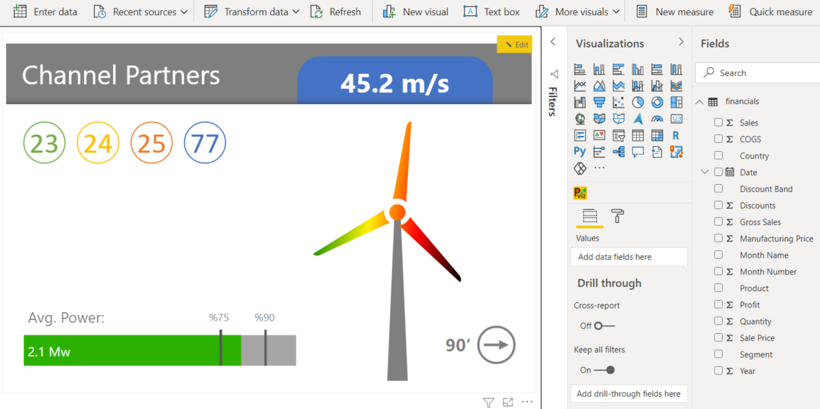

What the dashboard file says about the page in this screenshot:
{"tool":"powerbi","page":{"name":"1","canvas":[1280,720],"ordinal":0},"visuals":[{"type":"pureVizInfographicC9801BF222134D2D83FA9C41861F3482","fields":{"dataset":["Sum(financials.Budget)","Min(financials.Country)","Sum(financials.Quantity)","Min(financials.Product)","financials.Eficiency %","Min(financials.Discount Band)"]},"box":[256,112.9,745.4,480.6],"z":0},{"type":"slicer","fields":{"Values":["financials.Product"]},"box":[36.4,112.8,167.4,167.4],"z":1000},{"type":"actionButton","box":[1072,654,208,57.1],"z":2000},{"type":"actionButton","box":[299.9,654,681.1,57.1],"z":3000}]}

Visuals, with their boxes on the page's 1280x720 design canvas (x1, y1, x2, y2). These are canvas units, not pixel positions in the 820x409 screenshot, which may show the page scaled, cropped or inside an application window:
pureVizInfographicC9801BF222134D2D83FA9C41861F3482 - Sum(financials.Budget) x Min(financials.Country): [x1=256, y1=113, x2=1001, y2=594]
slicer - financials.Product: [x1=36, y1=113, x2=204, y2=280]
actionButton: [x1=1072, y1=654, x2=1280, y2=711]
actionButton: [x1=300, y1=654, x2=981, y2=711]
